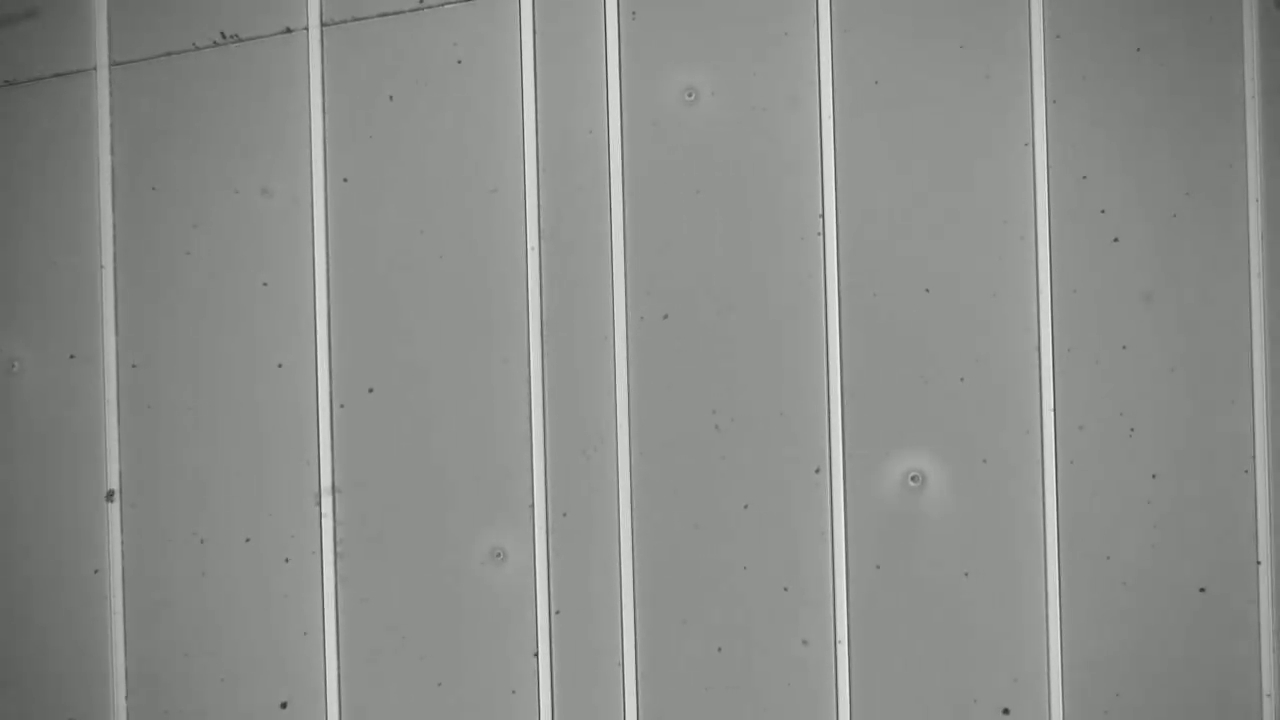scratch: (10, 1, 469, 84)
stains_enbedded: (96, 482, 134, 509)
